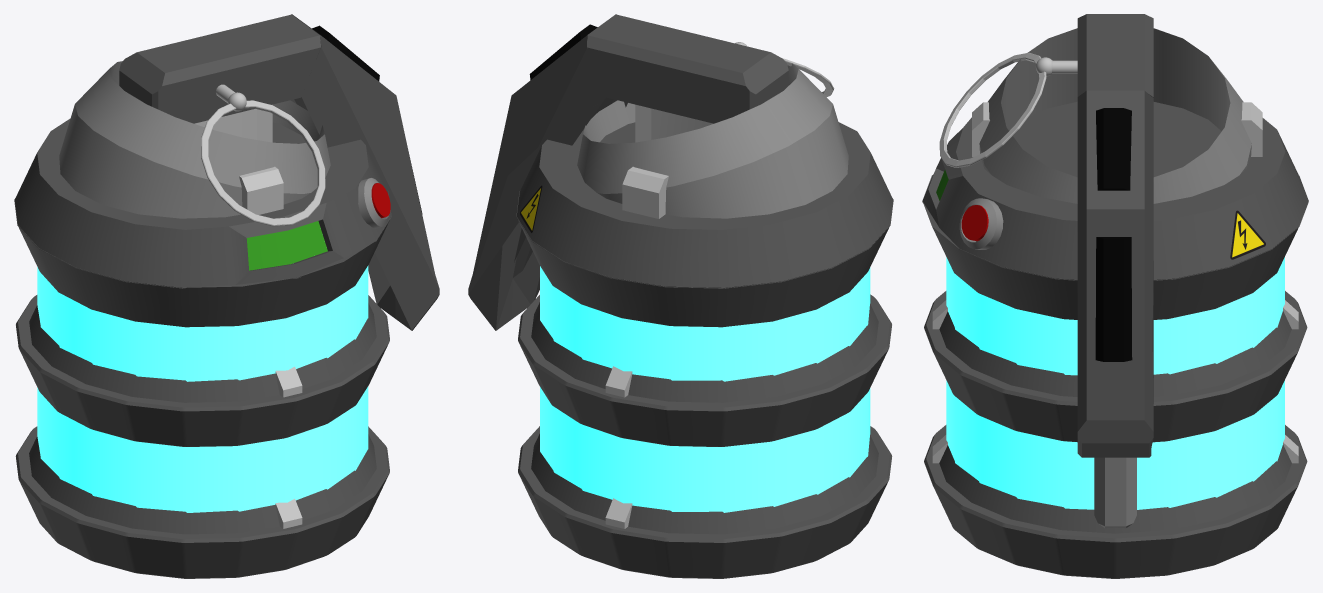
Rendered from emp_grenade.glb.
3 views of the same model, side by side, from view 1: azimuth 30°, elevation 25°; view 2: azimuth 150°, elevation 25°; view 3: azimuth 270°, elevation 25° (orthographic).
Parts seen in each view (by area): view 1: pasted__pCylinder1, pasted__pCylinder5, pasted__pPipe1, pasted__pCylinder4, pasted__pCylinder3, pasted__pasted__pCube2, pasted__pCube2, pasted__pCylinder2, pasted__pCylinder8, pasted__pCylinder7, pasted__pPipe2, pCube8 (+5 smaller); view 2: pasted__pCylinder1, pasted__pCylinder5, pasted__pPipe1, pasted__pCylinder4, pasted__pCylinder3, pasted__pasted__pCube2, pasted__pCube2, pasted__pCylinder2, pasted__pCylinder8, pasted__pCylinder7, pCube7, pasted__pCube1 (+3 smaller); view 3: pasted__pCylinder1, pasted__pCylinder5, pasted__pasted__pCube2, pasted__pPipe1, pasted__pCylinder4, pasted__pCylinder3, pasted__pCylinder2, pasted__pCylinder8, pasted__pCylinder7, pasted__pCube2, pCube10, pCube11 (+9 smaller).
Boxes of the visible parts, x1,y1,x2,y2 form: pasted__pCylinder1: (37,265,368,512); pasted__pCylinder5: (14,118,391,288); pasted__pPipe1: (59,61,330,218); pasted__pCylinder4: (15,426,389,578); pasted__pCylinder3: (16,295,389,446); pasted__pasted__pCube2: (290,14,439,330); pasted__pCube2: (119,14,320,123); pasted__pCylinder2: (14,191,391,327); pasted__pCylinder8: (29,434,376,534); pasted__pCylinder7: (29,303,376,402); pasted__pPipe2: (201,100,325,226); pCube8: (239,166,283,214); pasted__pCylinder1: (540,266,870,512); pasted__pCylinder5: (516,122,893,288); pasted__pPipe1: (577,63,848,218); pasted__pCylinder4: (518,426,892,578); pasted__pCylinder3: (518,294,891,446); pasted__pasted__pCube2: (468,14,627,330); pasted__pCube2: (587,14,788,123); pasted__pCylinder2: (516,191,893,327); pasted__pCylinder8: (531,433,878,534); pasted__pCylinder7: (531,302,878,402); pCube7: (622,166,668,218); pasted__pCube1: (635,104,713,142); pasted__pCylinder1: (946,257,1284,509); pasted__pCylinder5: (922,101,1308,280); pasted__pasted__pCube2: (1077,90,1153,457); pasted__pPipe1: (979,28,1251,203); pasted__pCylinder4: (924,425,1307,578); pasted__pCylinder3: (924,291,1307,442); pasted__pCylinder2: (922,175,1308,319); pasted__pCylinder8: (939,444,1291,533); pasted__pCylinder7: (939,311,1291,396); pasted__pCube2: (1077,14,1153,97); pCube10: (1095,237,1132,361); pCube11: (1094,457,1136,528).
Size of the model in its own units: 2.66 by 3.06 by 2.28.
Materials: 9 (2 with a texture image).
